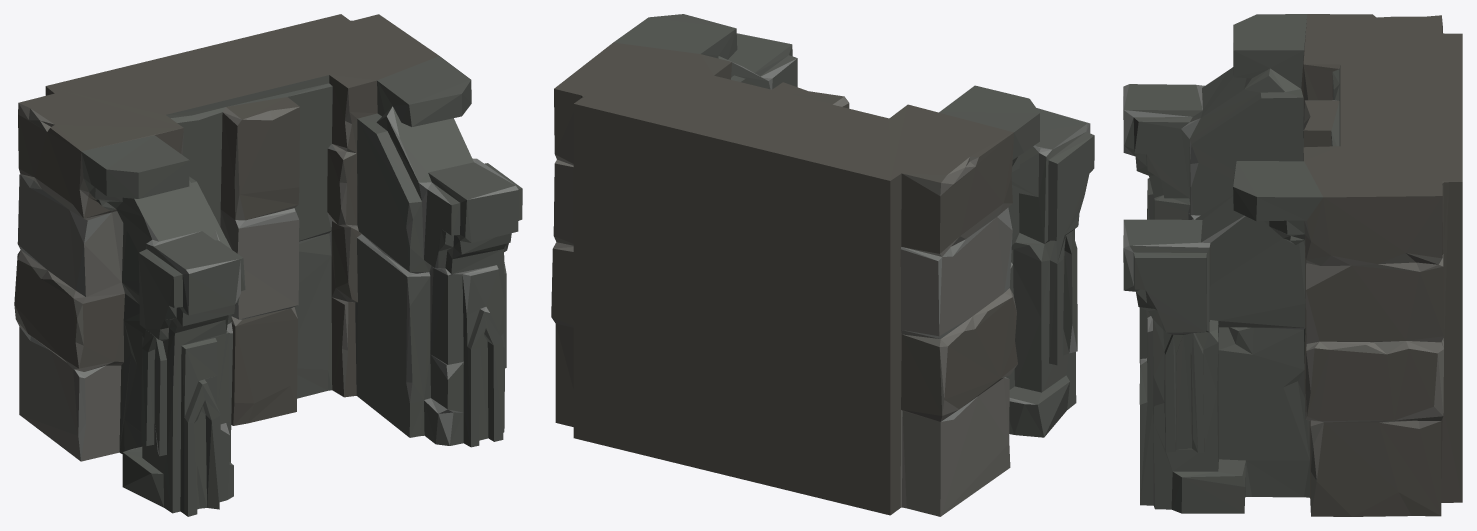
File: MDungeon_GiantPillar_F1.FBX
3 views of the same model, side by side, from view 1: azimuth 30°, elevation 25°; view 2: azimuth 150°, elevation 25°; view 3: azimuth 270°, elevation 25° (orthographic). The views are drawn at different scales.
Visible parts, largest first — view 1: MDungeon_GiantPillar_F1_LOD0; view 2: MDungeon_GiantPillar_F1_LOD0; view 3: MDungeon_GiantPillar_F1_LOD0.
Part boxes in pixels (left/top/right/bottom): MDungeon_GiantPillar_F1_LOD0: left=14, top=14, right=522, bottom=516; MDungeon_GiantPillar_F1_LOD0: left=551, top=14, right=1094, bottom=516; MDungeon_GiantPillar_F1_LOD0: left=1123, top=14, right=1462, bottom=516.
Size of what is drawn, in the model's own units: 5.26 by 4.21 by 4.03.
